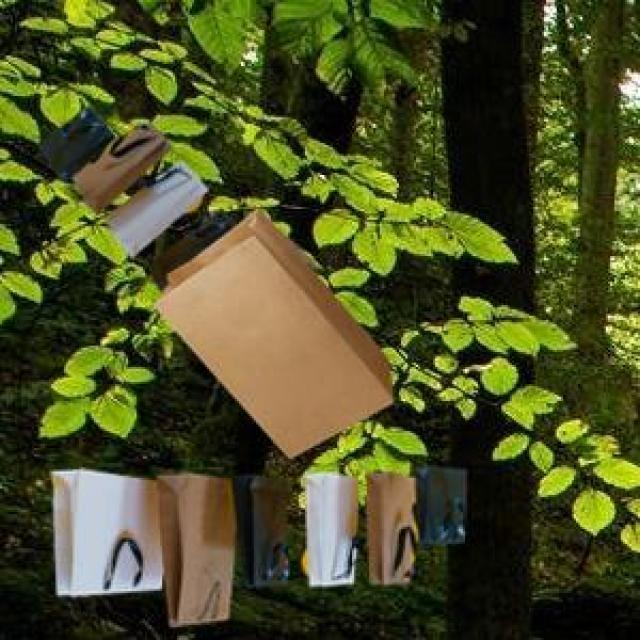paper: (48, 463, 463, 621), (149, 205, 388, 454), (34, 102, 312, 288)
